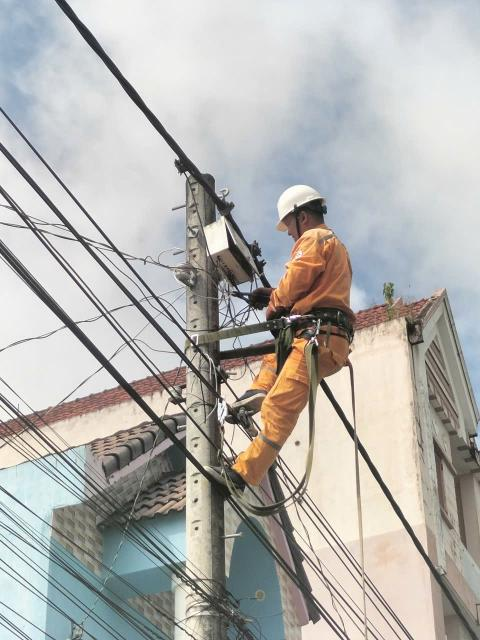gloves: (242, 288, 285, 313)
harness: (245, 310, 371, 340)
helmet: (270, 179, 331, 231)
shoes: (203, 454, 262, 499), (218, 384, 276, 415)
